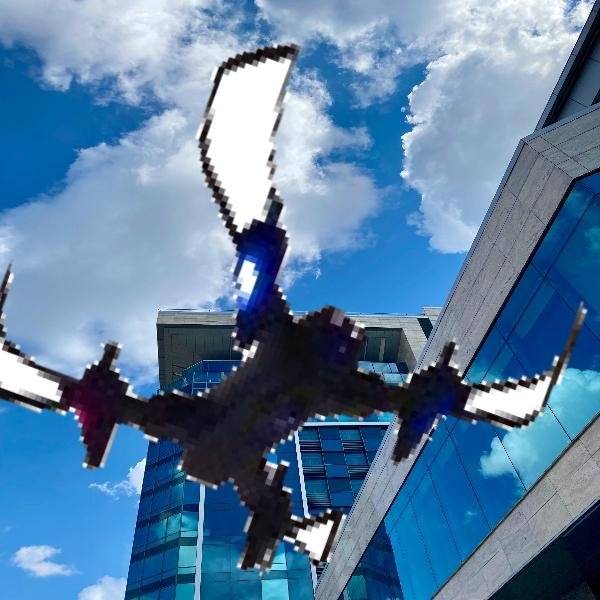drone: (2, 1, 600, 600)
